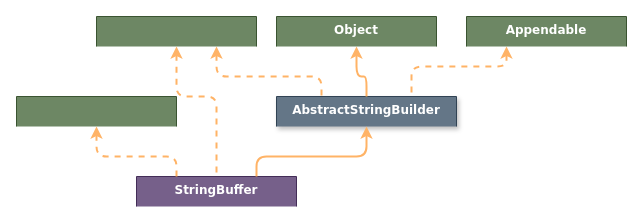
The diagram is 643 pixels wide and 223 high, and some of its shapes have lost their labels. The shapes that lost their labels are listed below. From the top down, each one's centre as x and y in pixels, then its label:
point 176,31: CharSequence
point 96,111: Serializable
